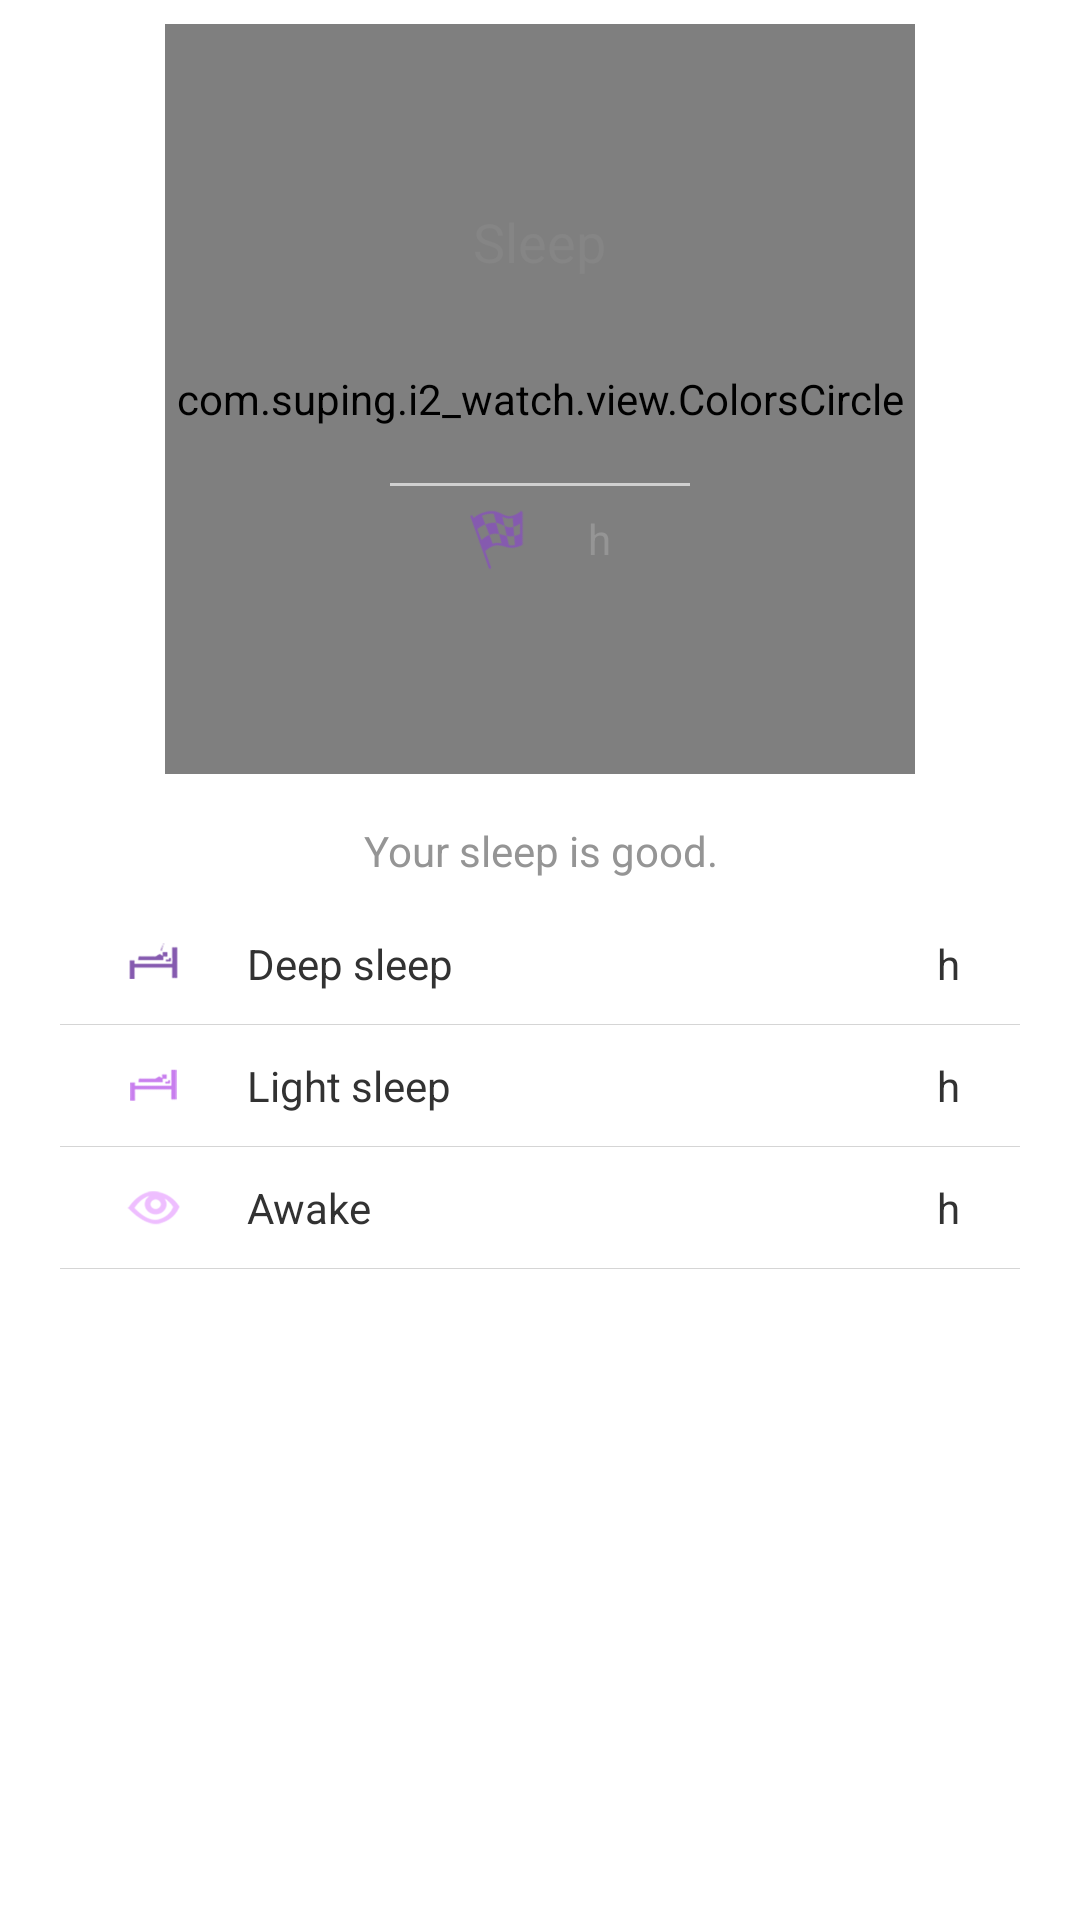

Named icons in this screenshot (1080px x 1920px) and their bounding boxes, (x1, y1, x2, y2):
target sleep: (470, 511, 523, 569)
